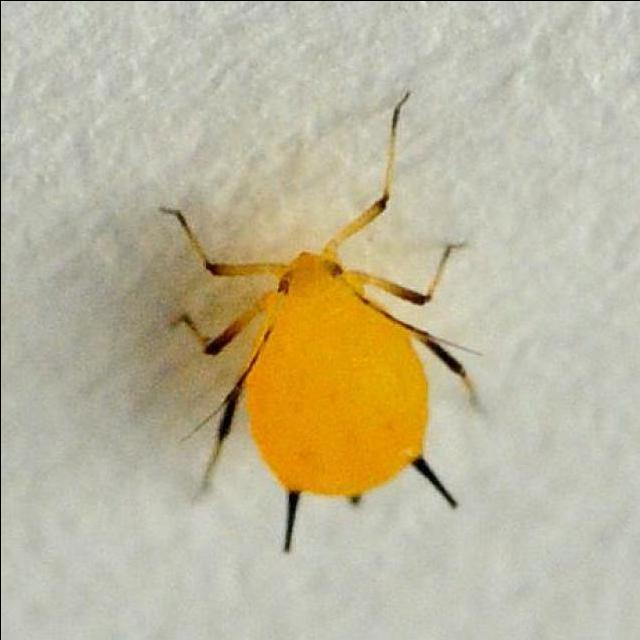aphid: (120, 94, 514, 540)
